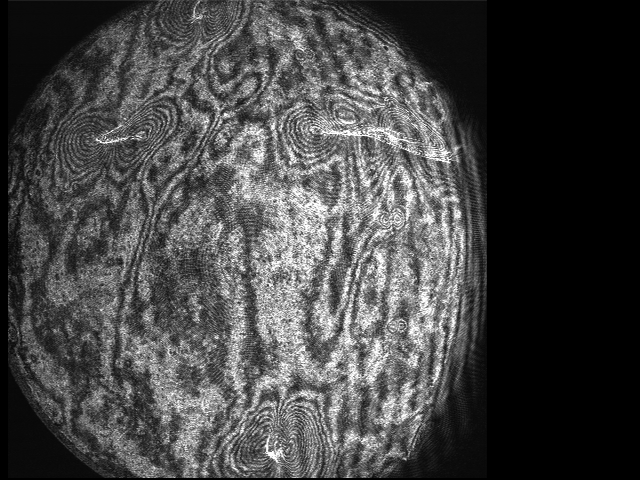plume: (61, 104, 178, 171), (228, 404, 327, 480), (162, 1, 246, 44)
